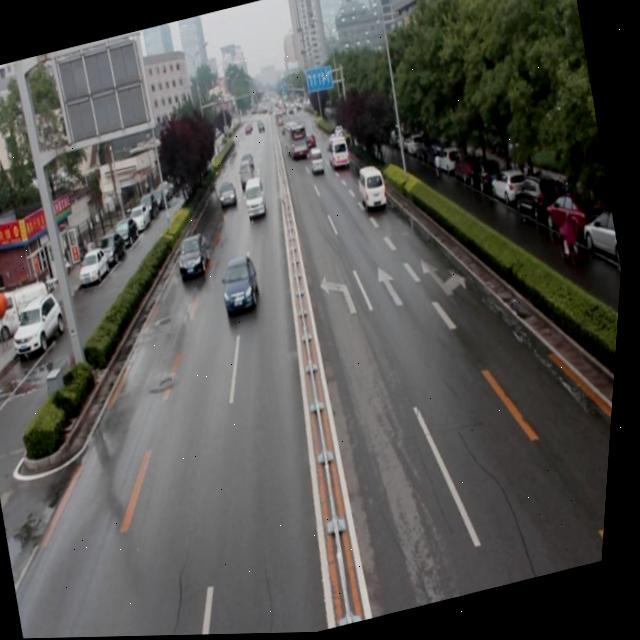car: (216, 253, 270, 319), (174, 230, 218, 282), (216, 179, 241, 210)
truck: (354, 162, 393, 214), (241, 175, 273, 220), (324, 133, 353, 169), (306, 148, 328, 177), (237, 159, 258, 187)
